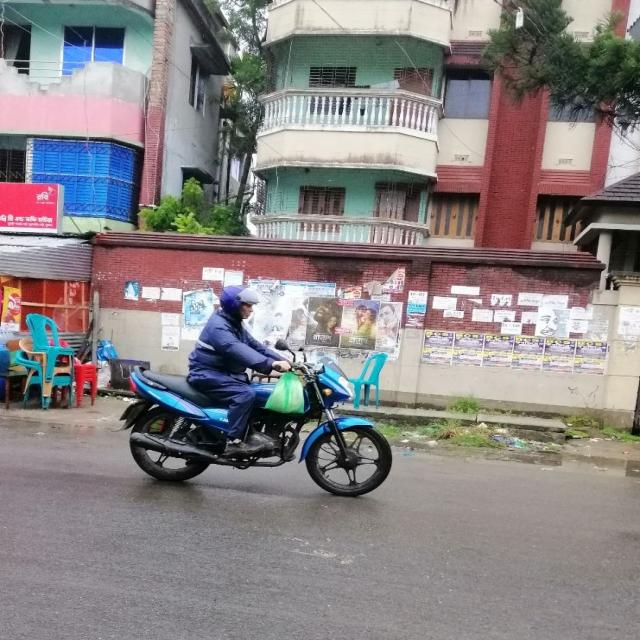Motorbike: (96, 324, 414, 513)
